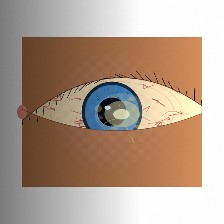corneal_ulcer: (93, 91, 151, 137)
